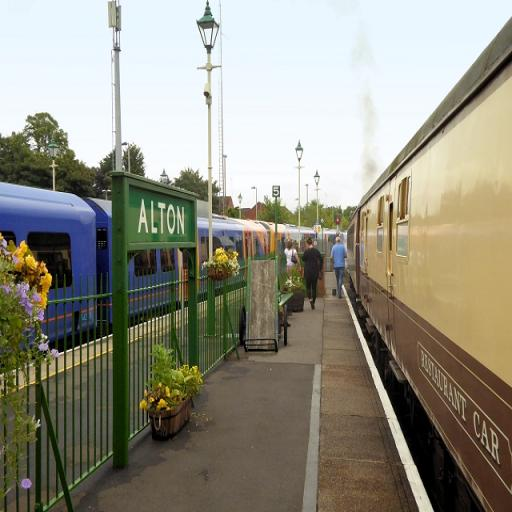platform_edge: (295, 308, 434, 512)
